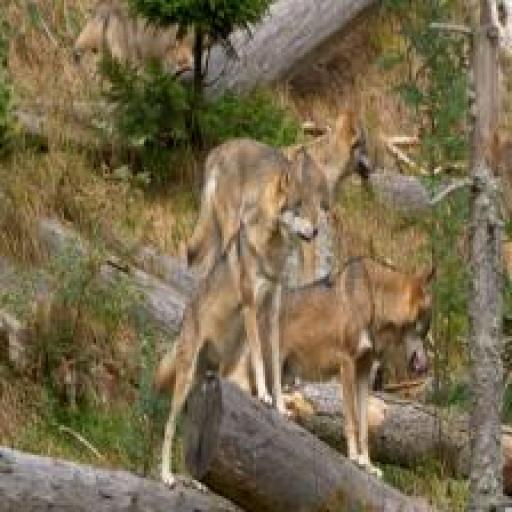wolf: (162, 164, 319, 500), (176, 52, 387, 252), (290, 236, 453, 452)
